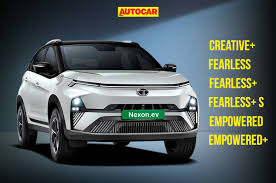Tata Nexon: (14, 37, 199, 165)
